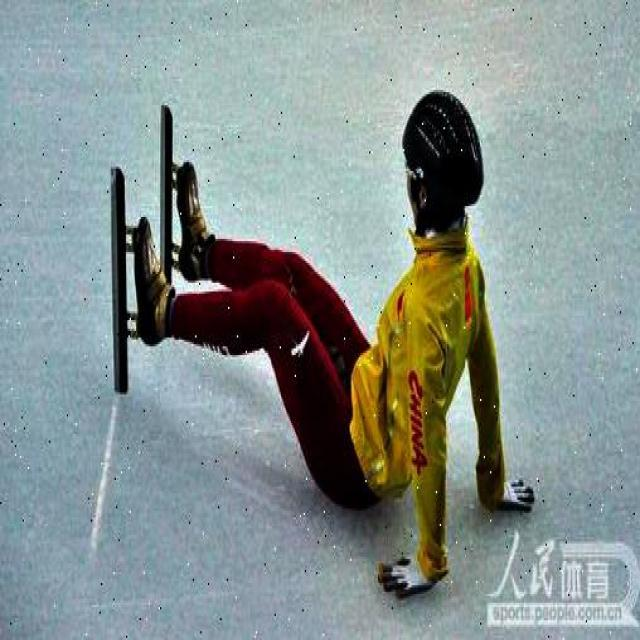fall: (137, 110, 532, 586)
